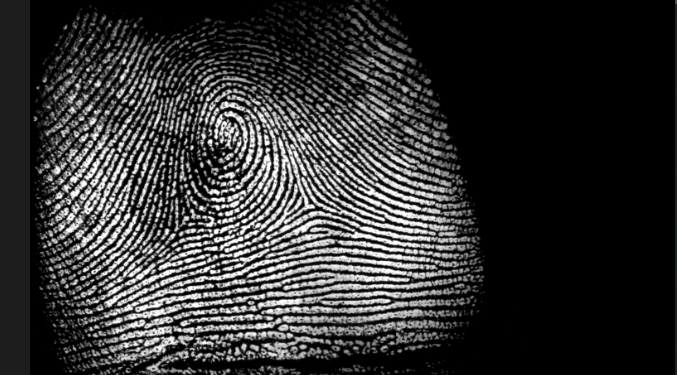nucelo: (211, 115, 246, 144)
verticilo: (285, 191, 329, 218), (167, 210, 201, 236)
